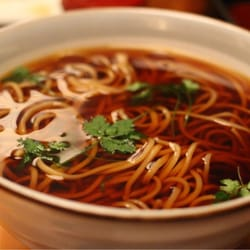Soba: (5, 52, 250, 211)
